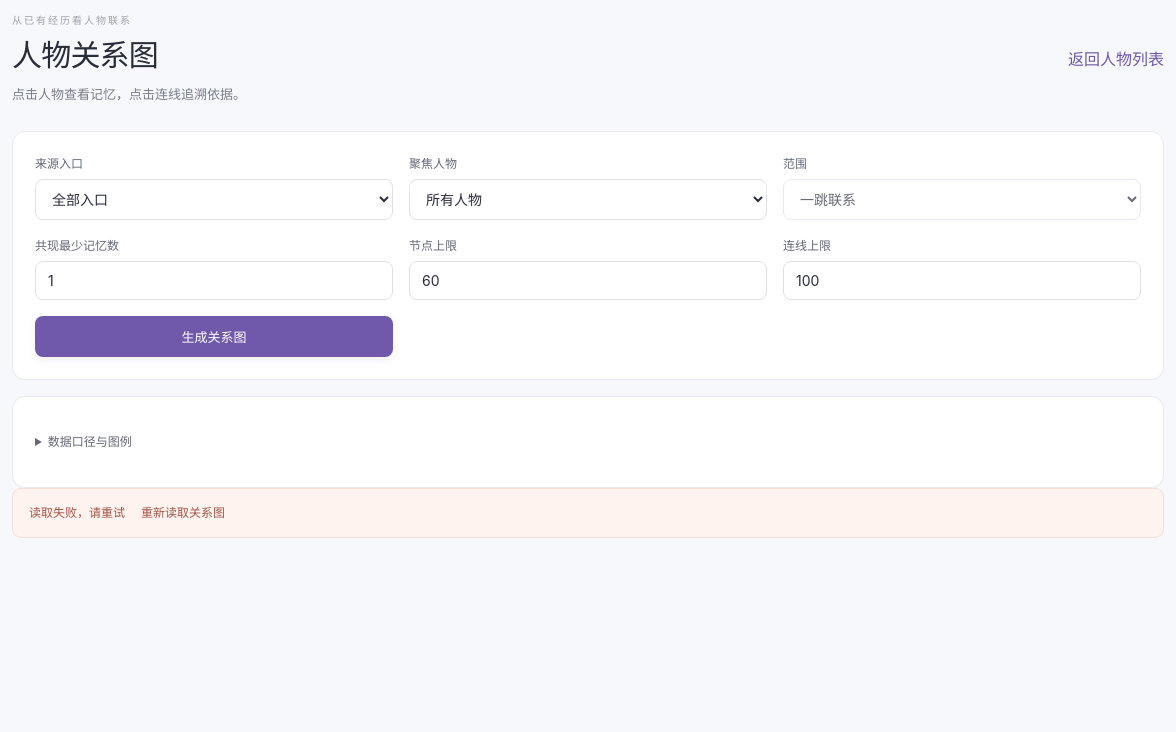
graph errors are retryable and empty data is explicit
Check: the text "读取失败，请重试" is shown, box [29, 505, 125, 520]
Click the button "重新读取关系图". click: [183, 513]
box: [135, 501, 231, 525]
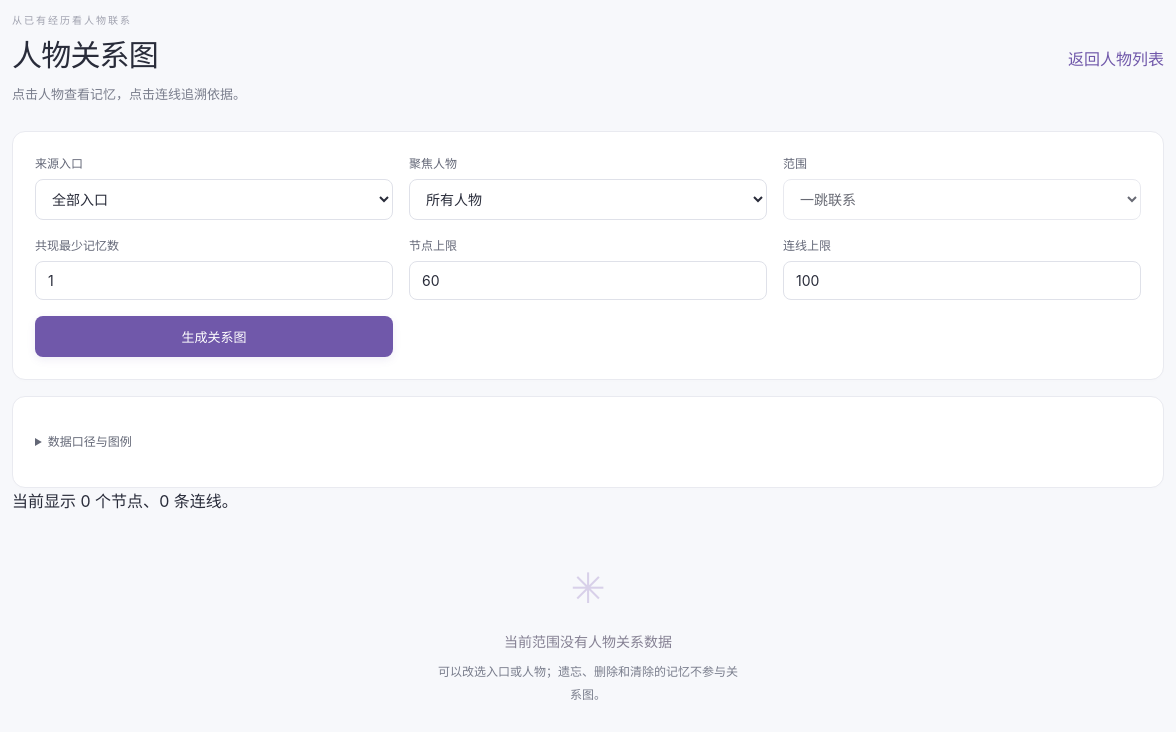
Check: the heading "当前范围没有人物关系数据" is shown, box [504, 633, 672, 650]
